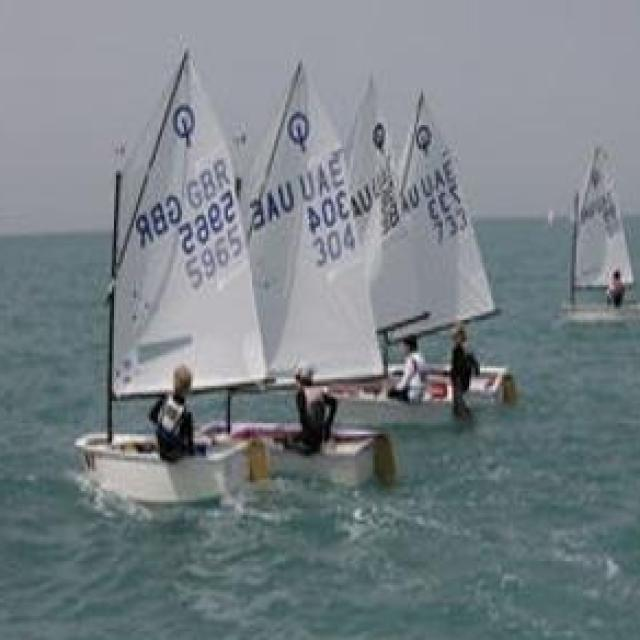sailboat: (76, 32, 269, 500), (206, 54, 382, 489), (327, 83, 517, 405), (557, 142, 640, 319)
